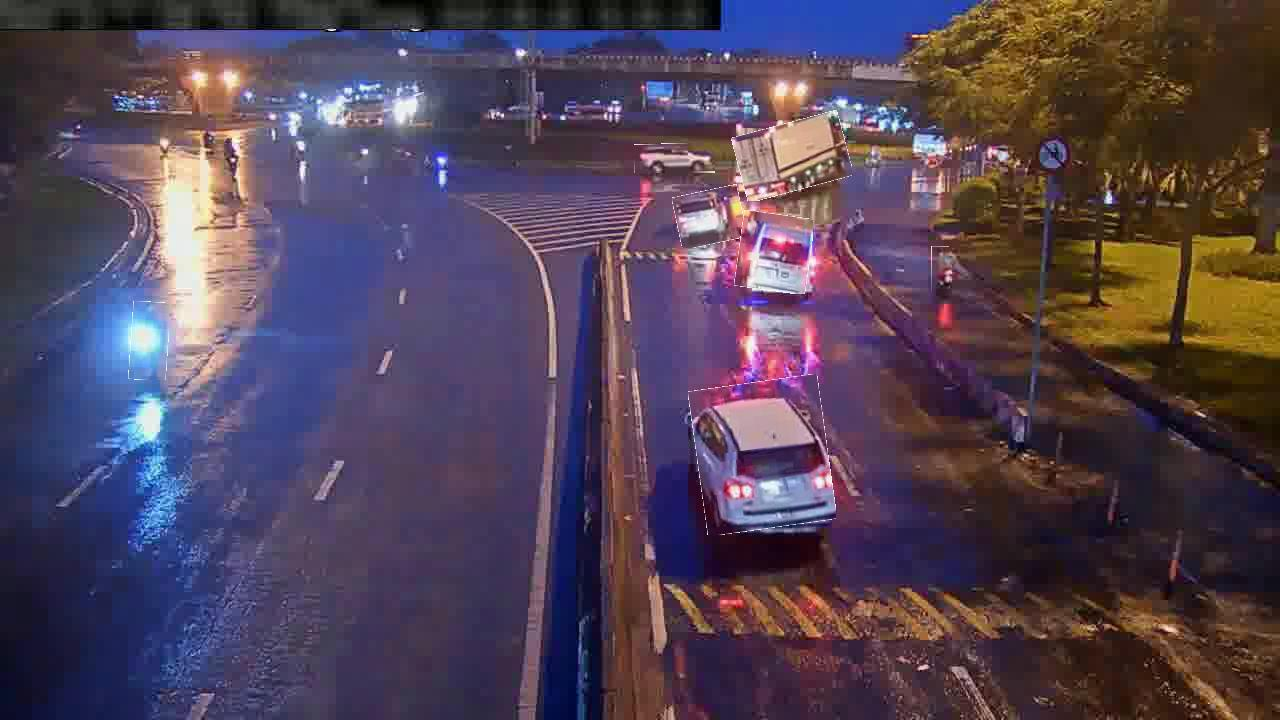14: (737, 213, 812, 293)
8: (735, 117, 850, 196)
container: (693, 378, 833, 532), (675, 187, 745, 246), (634, 144, 716, 174)
motorbike: (130, 302, 169, 380), (931, 246, 950, 293)
